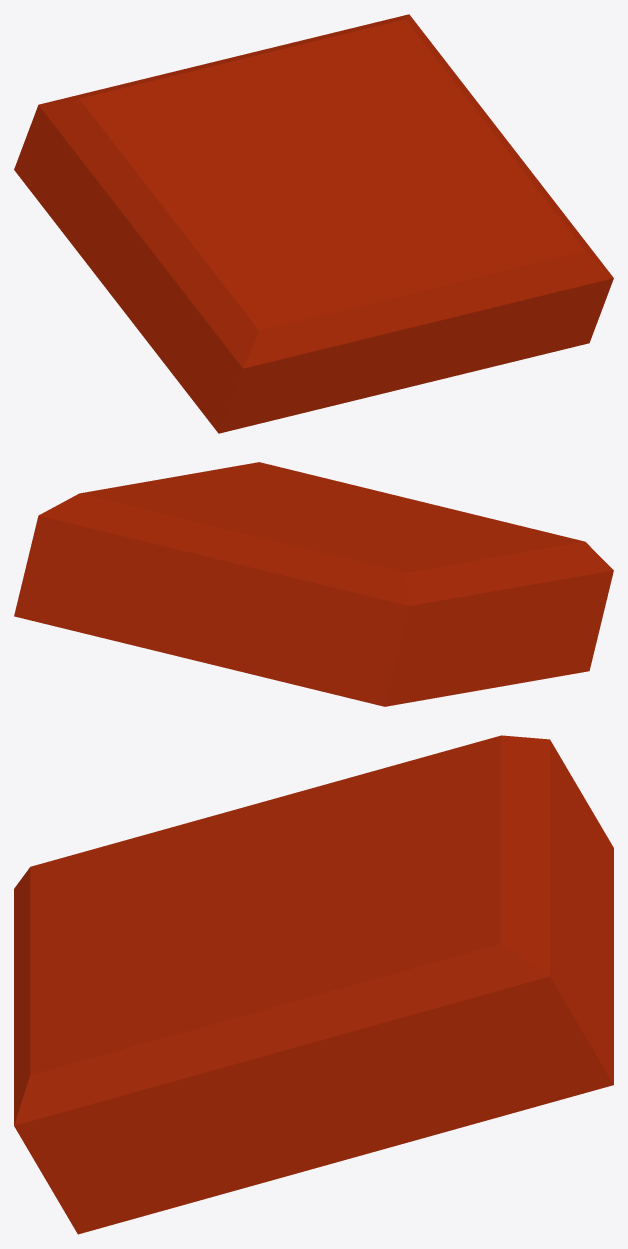
The model's file is red_button.glb.
The picture shows the model from 3 angles, top to bottom: view 1: azimuth 30°, elevation 25°; view 2: azimuth 150°, elevation 25°; view 3: azimuth 270°, elevation 25°; orthographic projection. The views are drawn at different scales.
Visible parts, largest first — view 1: Red_Button; view 2: Red_Button; view 3: Red_Button.
Boxes of the visible parts, <box> form: Red_Button: <box>14,14,613,433</box>; Red_Button: <box>14,462,613,706</box>; Red_Button: <box>14,735,613,1234</box>.
Size of what is drawn, in the model's own units: 0.3156 by 0.1716 by 0.3376.
Materials: 1 (1 with a texture image).
